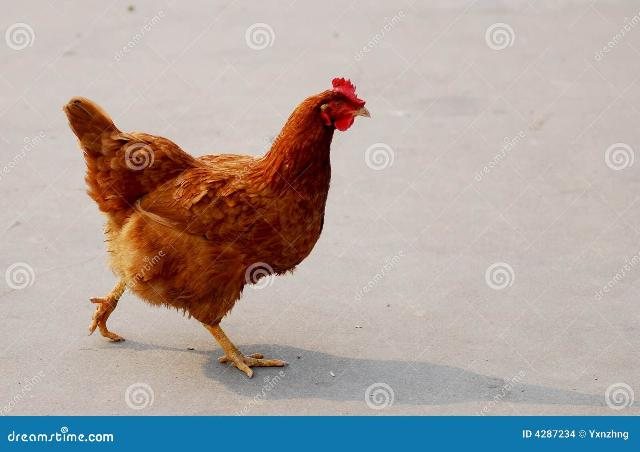Chicken: (61, 76, 372, 379)
